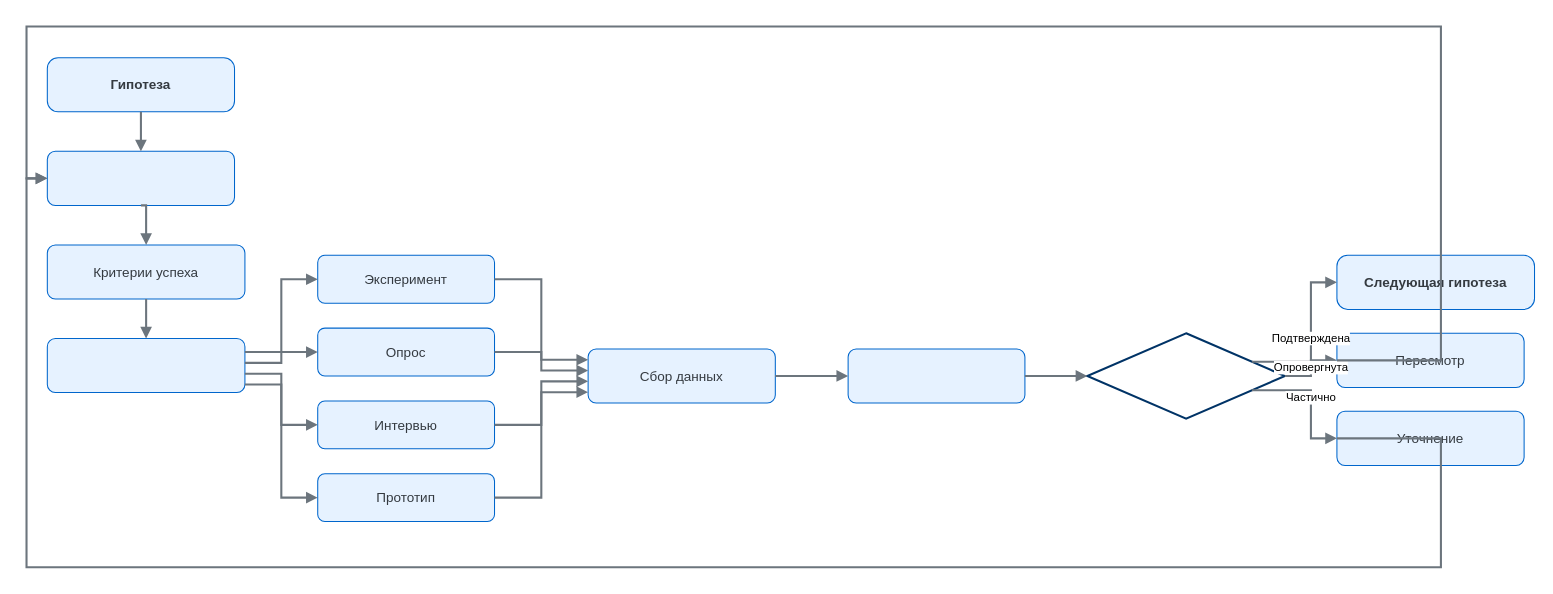
Image size: 1553x594. Some labels were removed from this diagram. The shapes that lost their labels are listed below. From the top down, each one's centre as x and y in pixels, then its label:
At (x=140, y=177): "Формулировка".
At (x=145, y=365): "Выбор метода".
At (x=936, y=375): "Анализ".
At (x=1185, y=375): "Результат?".
